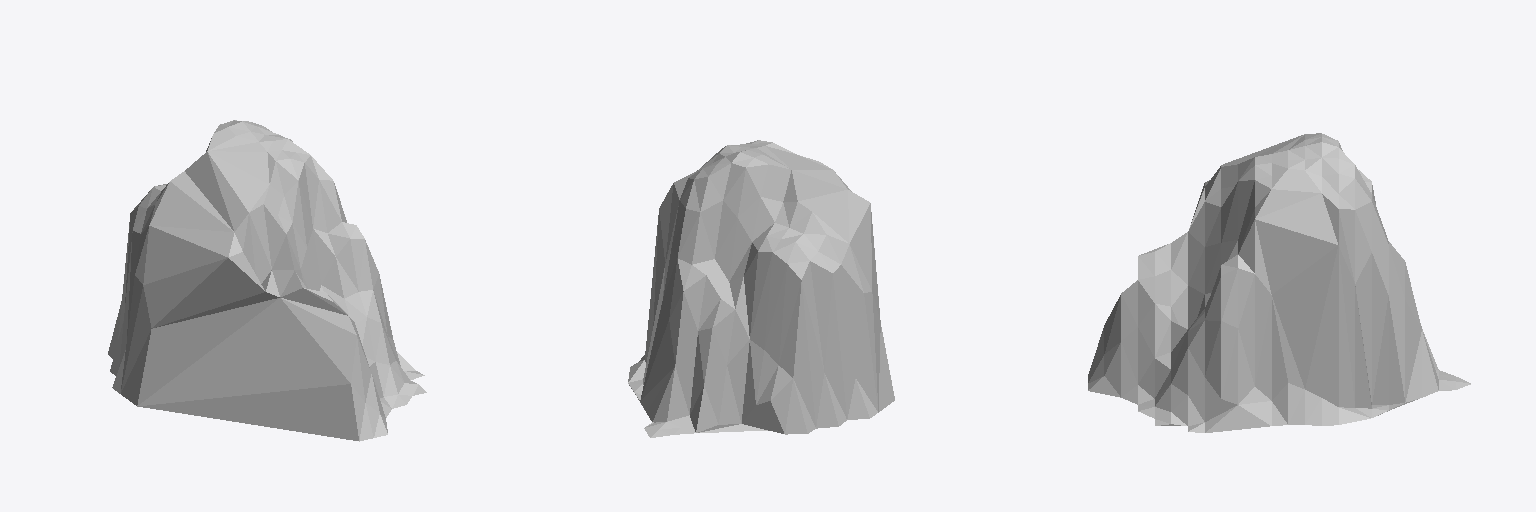
File: tree_66.obj
The picture shows the model from 3 angles: view 1: azimuth 30°, elevation 25°; view 2: azimuth 150°, elevation 25°; view 3: azimuth 270°, elevation 25°; orthographic projection.
Parts seen in each view (by area): view 1: tree_66_minus_dtm; view 2: tree_66_minus_dtm; view 3: tree_66_minus_dtm.
Boxes of the visible parts, <box> form: tree_66_minus_dtm: <box>108,120,426,441</box>; tree_66_minus_dtm: <box>628,140,894,437</box>; tree_66_minus_dtm: <box>1088,133,1470,432</box>.
Size of the model in its own units: 17 by 15.51 by 23.